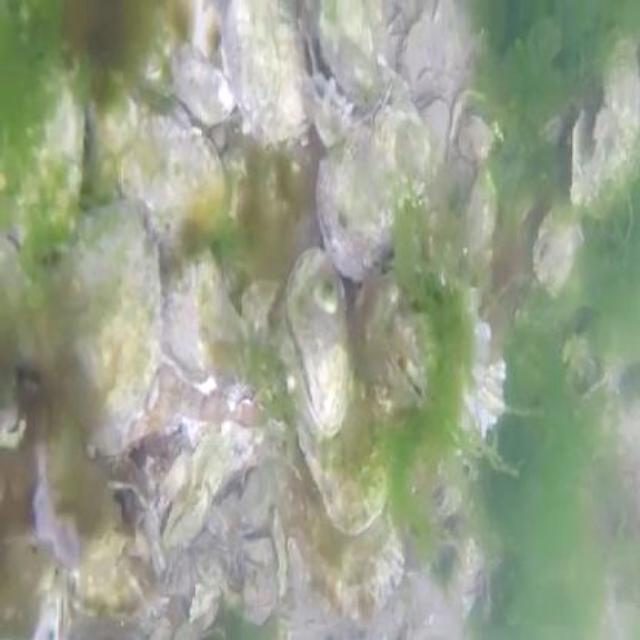Oyster-Closed: (0, 200, 165, 459), (317, 105, 432, 280), (290, 456, 406, 614), (0, 57, 85, 254), (218, 0, 317, 144), (116, 112, 229, 238), (281, 246, 353, 437), (290, 398, 385, 538), (161, 253, 236, 374), (0, 535, 68, 640), (601, 38, 640, 191), (532, 204, 584, 299), (174, 63, 236, 125), (355, 275, 401, 347), (378, 350, 428, 414), (459, 172, 495, 259), (417, 92, 452, 171), (190, 0, 220, 69)
Oyster-Open: (34, 405, 111, 569), (298, 0, 375, 116), (570, 107, 622, 204), (302, 75, 352, 144)
